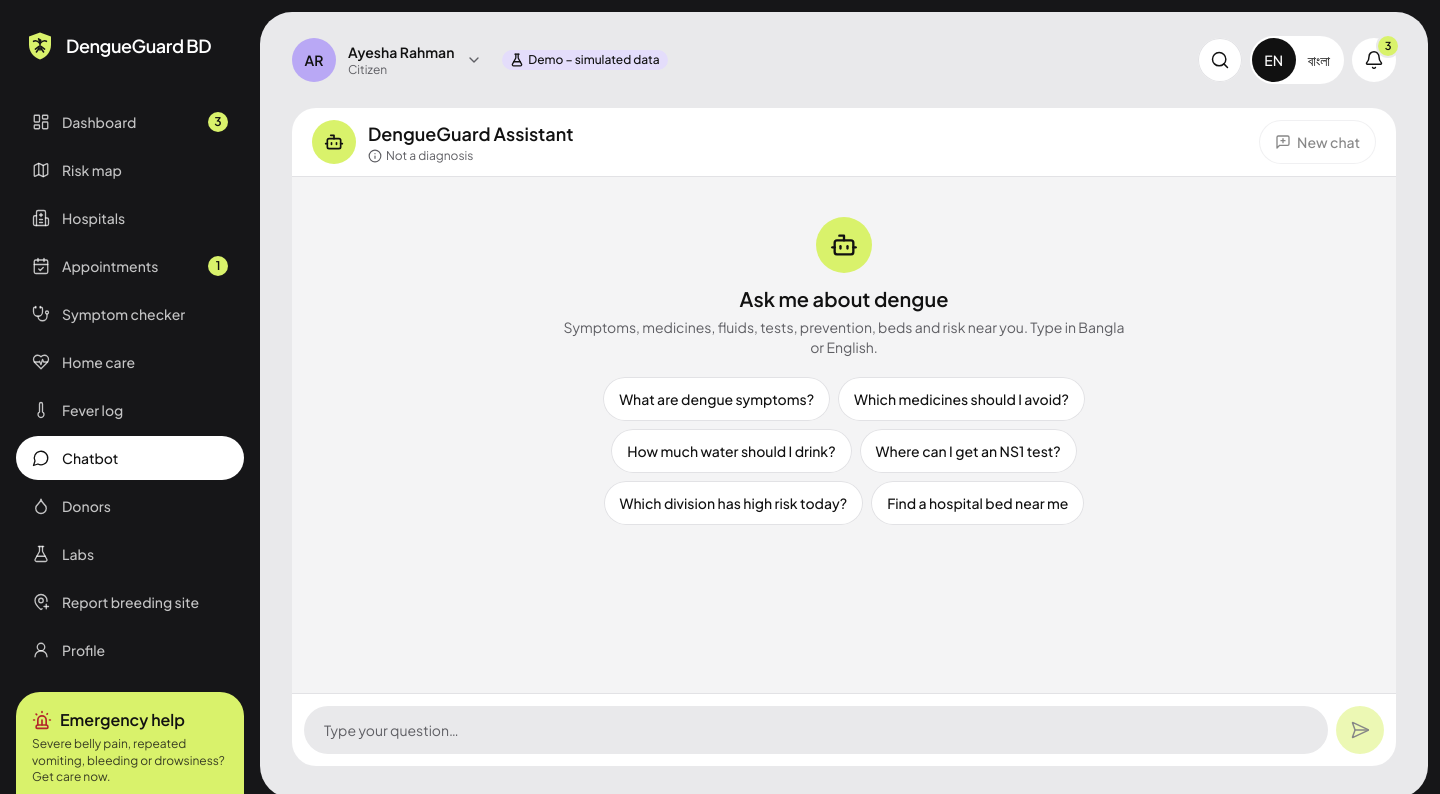
Test: Chatbot (/chatbot) › shows the assistant header, a "Not a diagnosis" note and 6 suggestions
Expected: the heading "DengueGuard Assistant" is shown, [368, 122, 574, 145]
Expected: the text "Not a diagnosis" is shown, [368, 148, 473, 163]
Click the button "বাংলা": point(1319, 60) [1296, 38, 1342, 82]
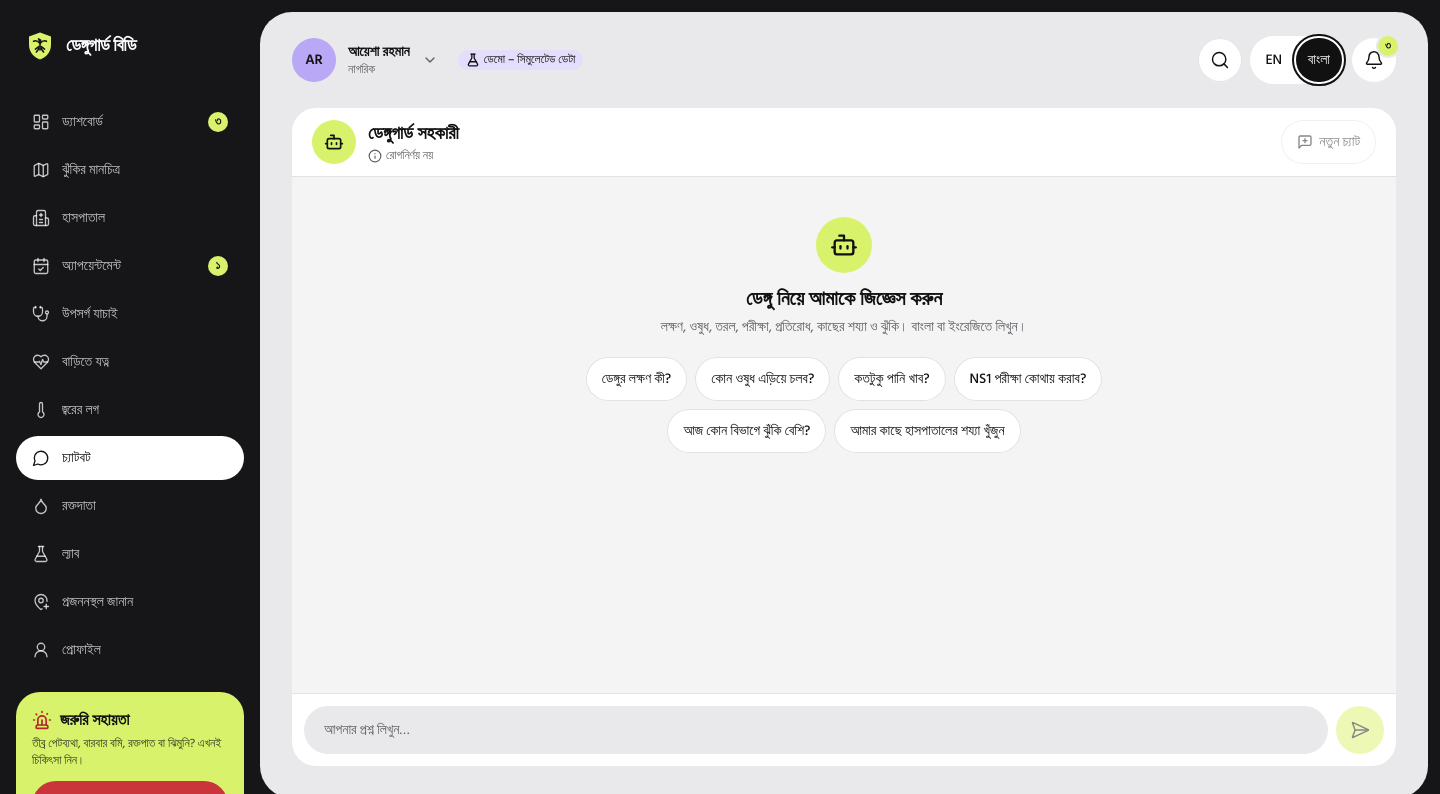
Expected: the button "ডেঙ্গুর লক্ষণ কী?" is shown, [586, 357, 687, 401]
